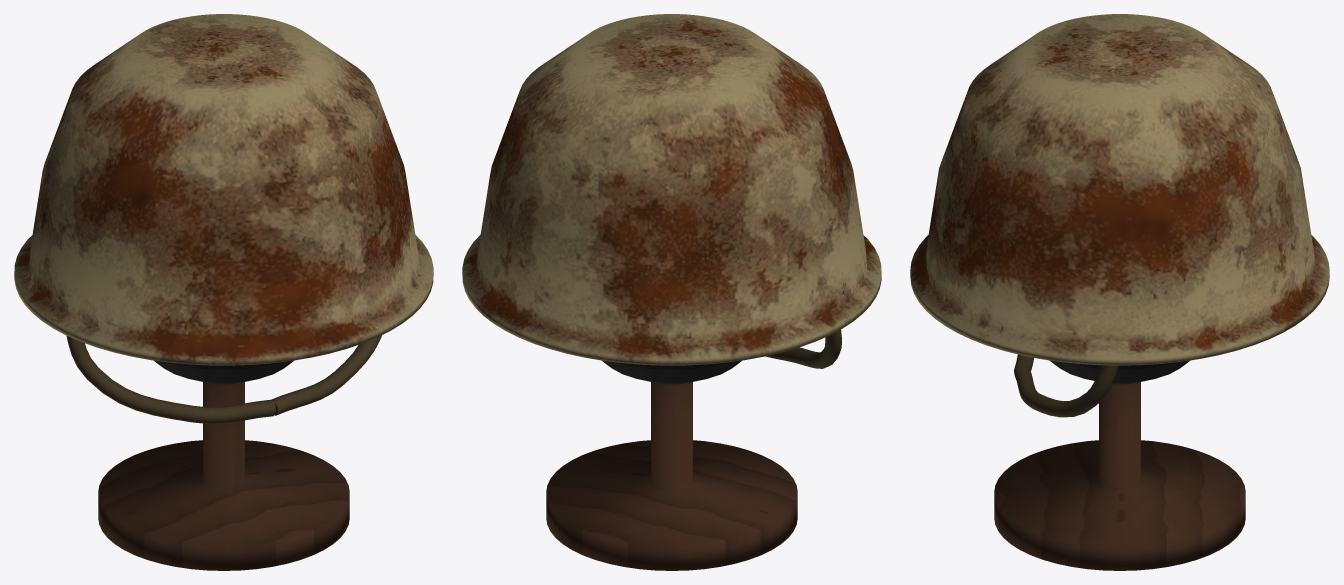
Rendered from field-sand.glb.
3 renders of one model, left to right at view 1: azimuth 30°, elevation 25°; view 2: azimuth 150°, elevation 25°; view 3: azimuth 270°, elevation 25°, orthographic.
Parts seen in each view (by area): view 1: paint_primary_helmet, wood_z, strap, form_black; view 2: paint_primary_helmet, wood_z, form_black, strap; view 3: paint_primary_helmet, wood_z, strap, form_black.
Part boxes in pixels (x1,y1,x2,y2): paint_primary_helmet: (14, 14, 433, 365); wood_z: (98, 382, 349, 570); strap: (66, 335, 381, 423); form_black: (153, 360, 294, 384); paint_primary_helmet: (462, 14, 881, 365); wood_z: (546, 382, 797, 570); form_black: (601, 360, 742, 384); strap: (765, 329, 841, 368); paint_primary_helmet: (910, 14, 1329, 365); wood_z: (994, 382, 1245, 570); strap: (1014, 354, 1118, 417); form_black: (1049, 360, 1190, 384).
Bounding box in the file's own units: 0.3 × 0.37 × 0.3.
4 materials, 3 textured.
